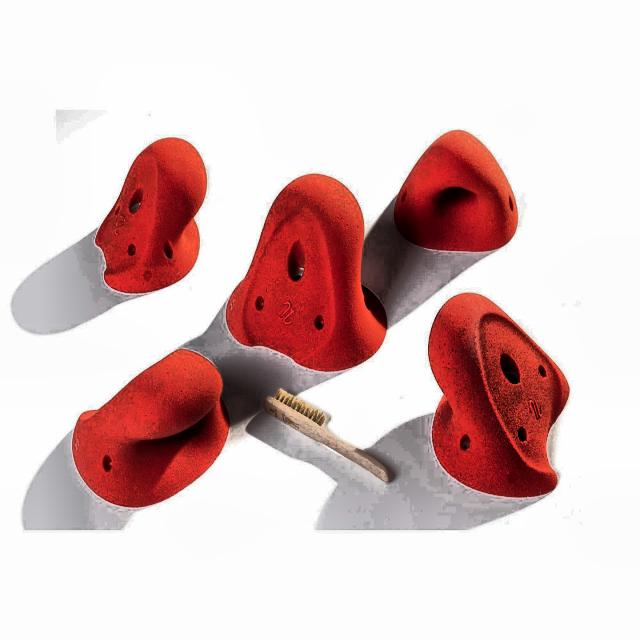Hold: (228, 168, 385, 374), (427, 299, 565, 497), (70, 344, 228, 507), (90, 137, 211, 296), (394, 124, 514, 246)
